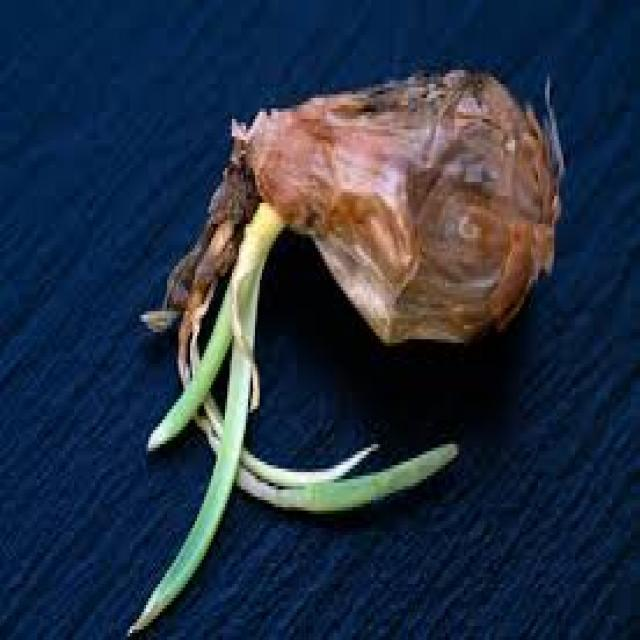Onion: (127, 199, 459, 635), (243, 64, 563, 348)
